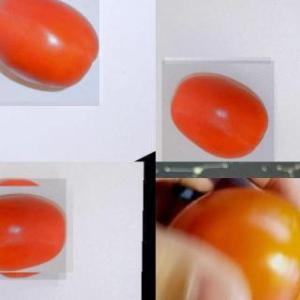tomato: (156, 178, 300, 300), (161, 62, 273, 163), (0, 1, 98, 106), (0, 179, 66, 279)
